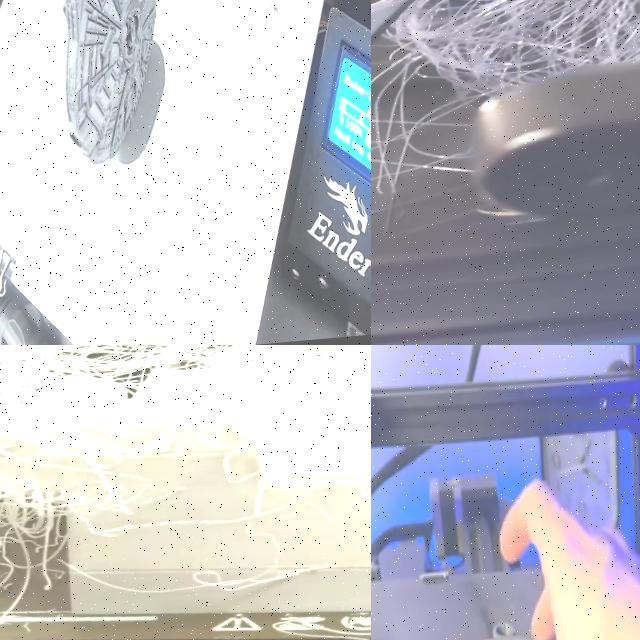spaghetti: (0, 345, 371, 640), (371, 0, 640, 102)
